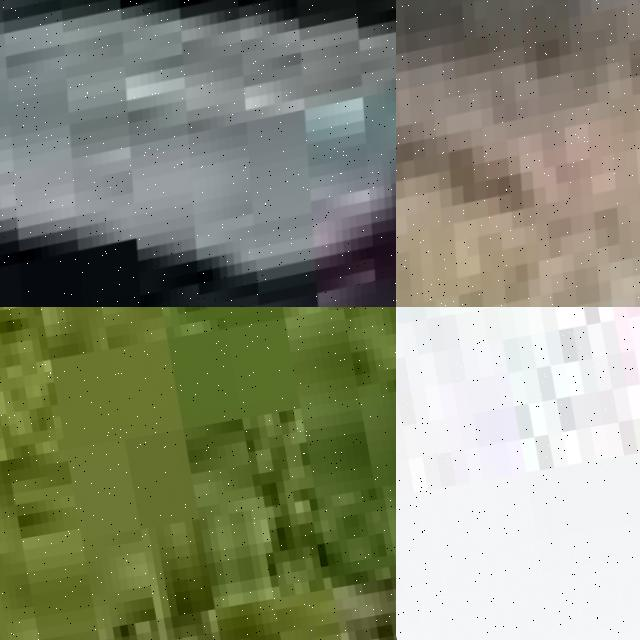0: (0, 0, 396, 307)
drone: (396, 0, 640, 307)
